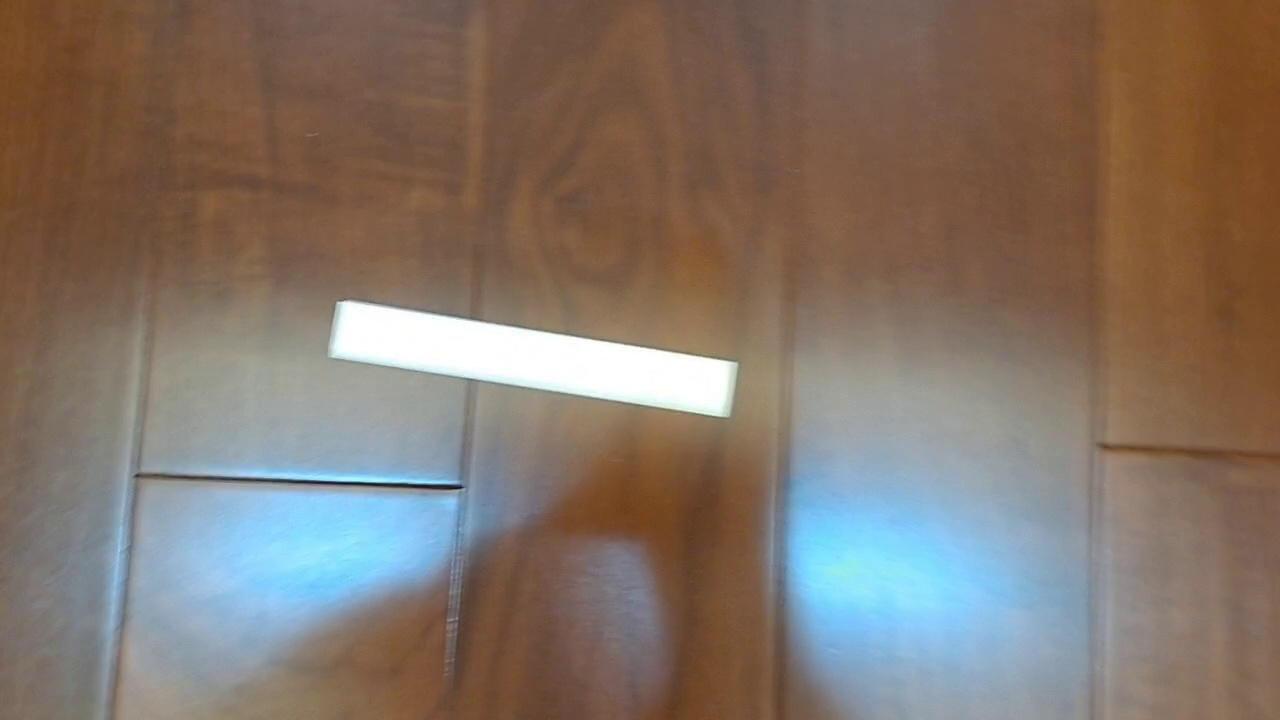ruler: (326, 298, 740, 420)
